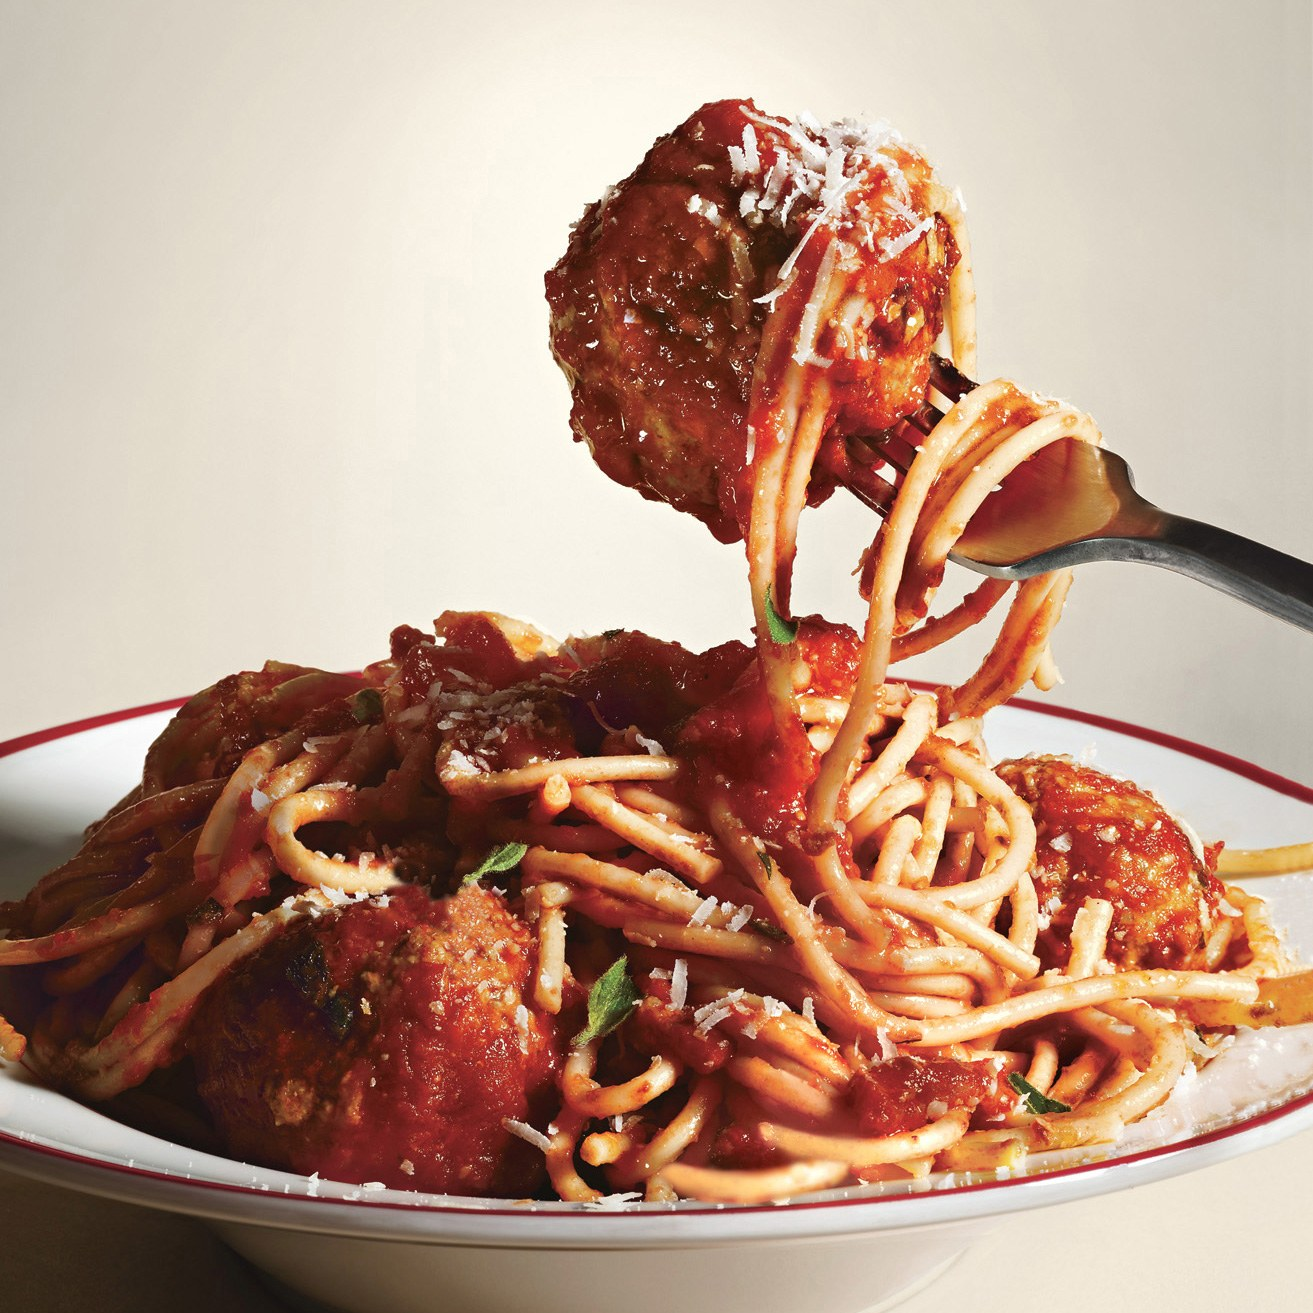meatballs: (569, 109, 943, 509), (216, 896, 536, 1169)
plain spaghetti: (632, 800, 993, 1042)
